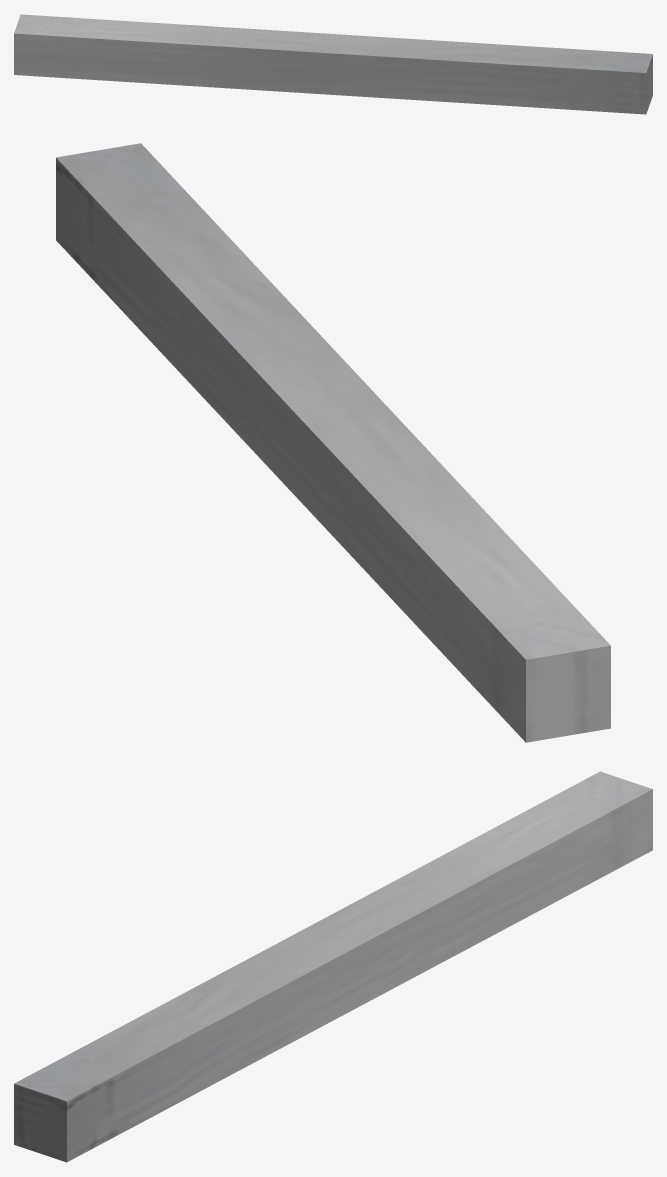
File: frame__front_diagonal.glb
The picture shows the model from 3 angles, top to bottom: view 1: azimuth 30°, elevation 25°; view 2: azimuth 150°, elevation 25°; view 3: azimuth 270°, elevation 25°; orthographic projection. The views are drawn at different scales.
Visible parts, largest first — view 1: geometry_0; view 2: geometry_0; view 3: geometry_0.
Part boxes in pixels (bbox=[...]): geometry_0: bbox=[14, 14, 652, 114]; geometry_0: bbox=[56, 143, 610, 742]; geometry_0: bbox=[14, 771, 652, 1162].
Bounding box in the file's own units: 0.4861 × 0.042 × 0.3979.
Materials: 1 (1 with a texture image).
